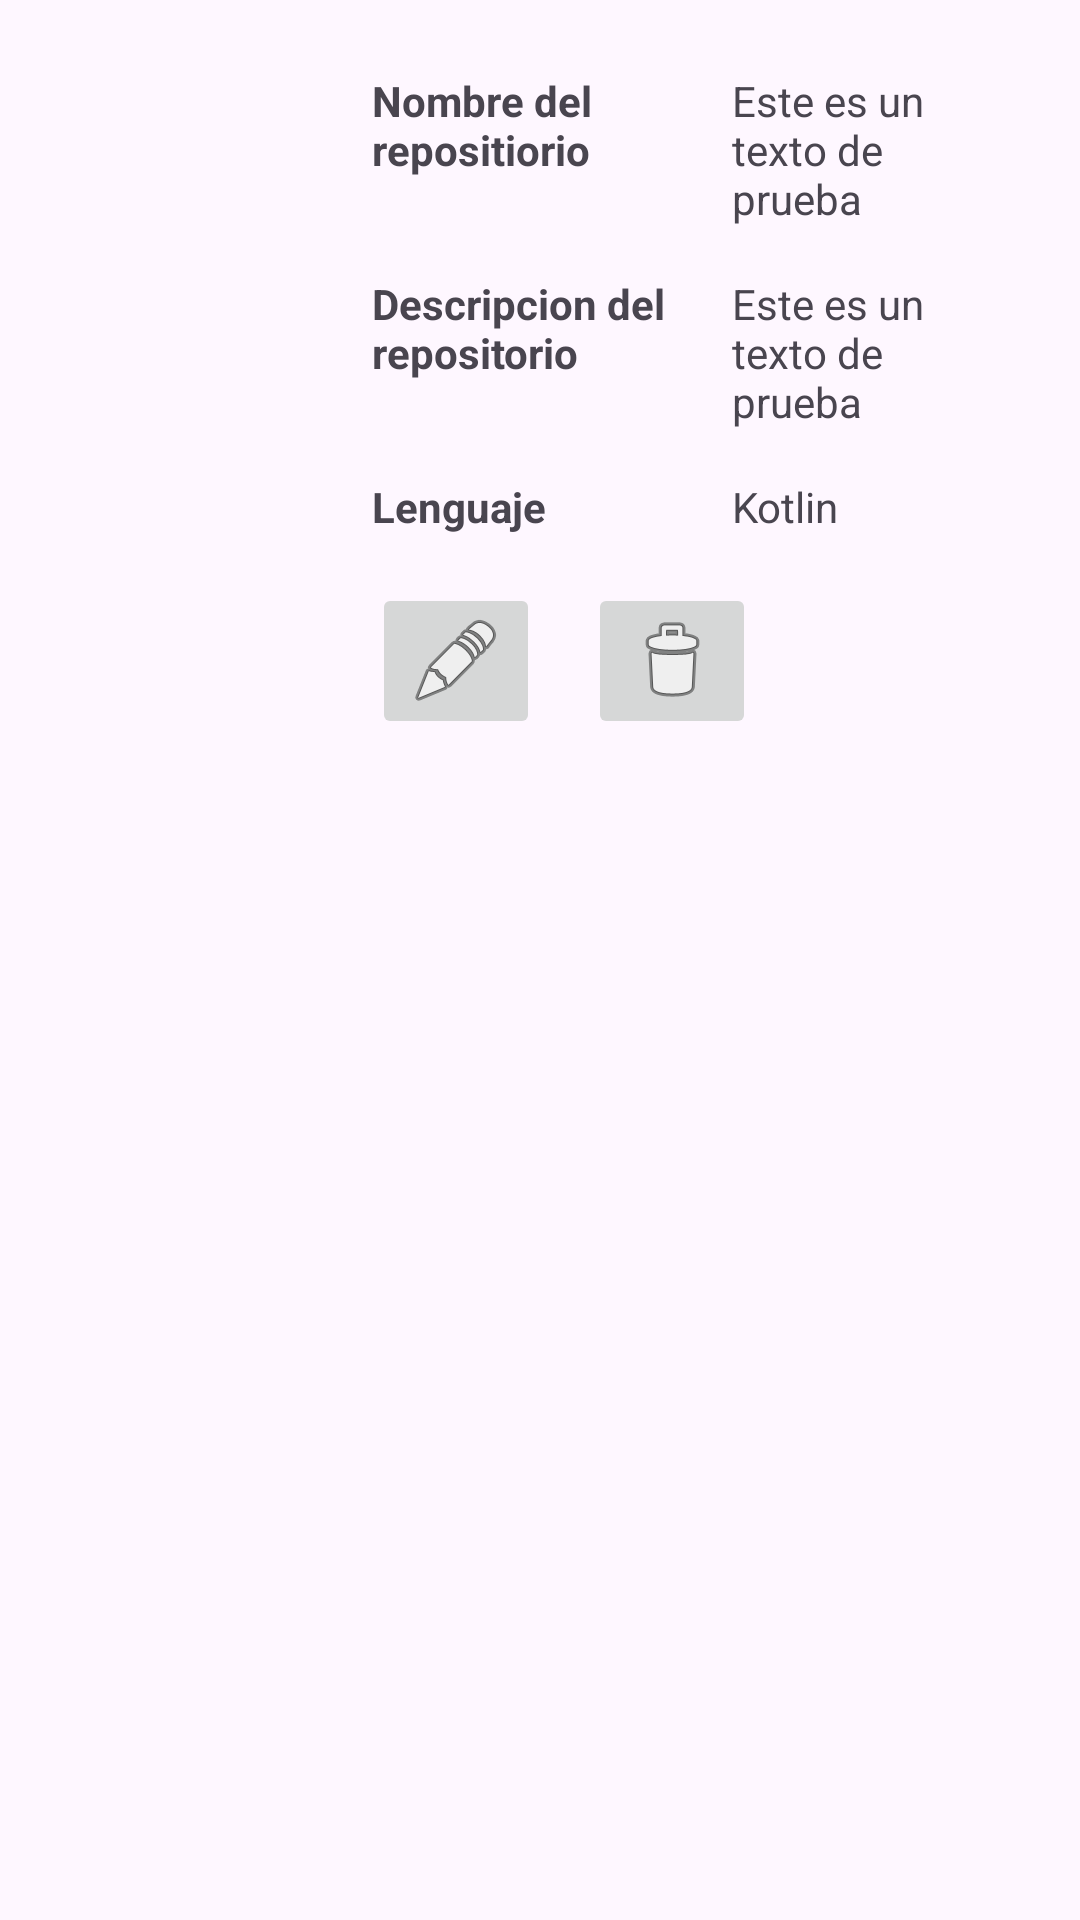

Where to tap for icons on this 1080 × 1920 app screen, as point (x, y):
delete: point (672, 661)
edit: point (456, 661)
